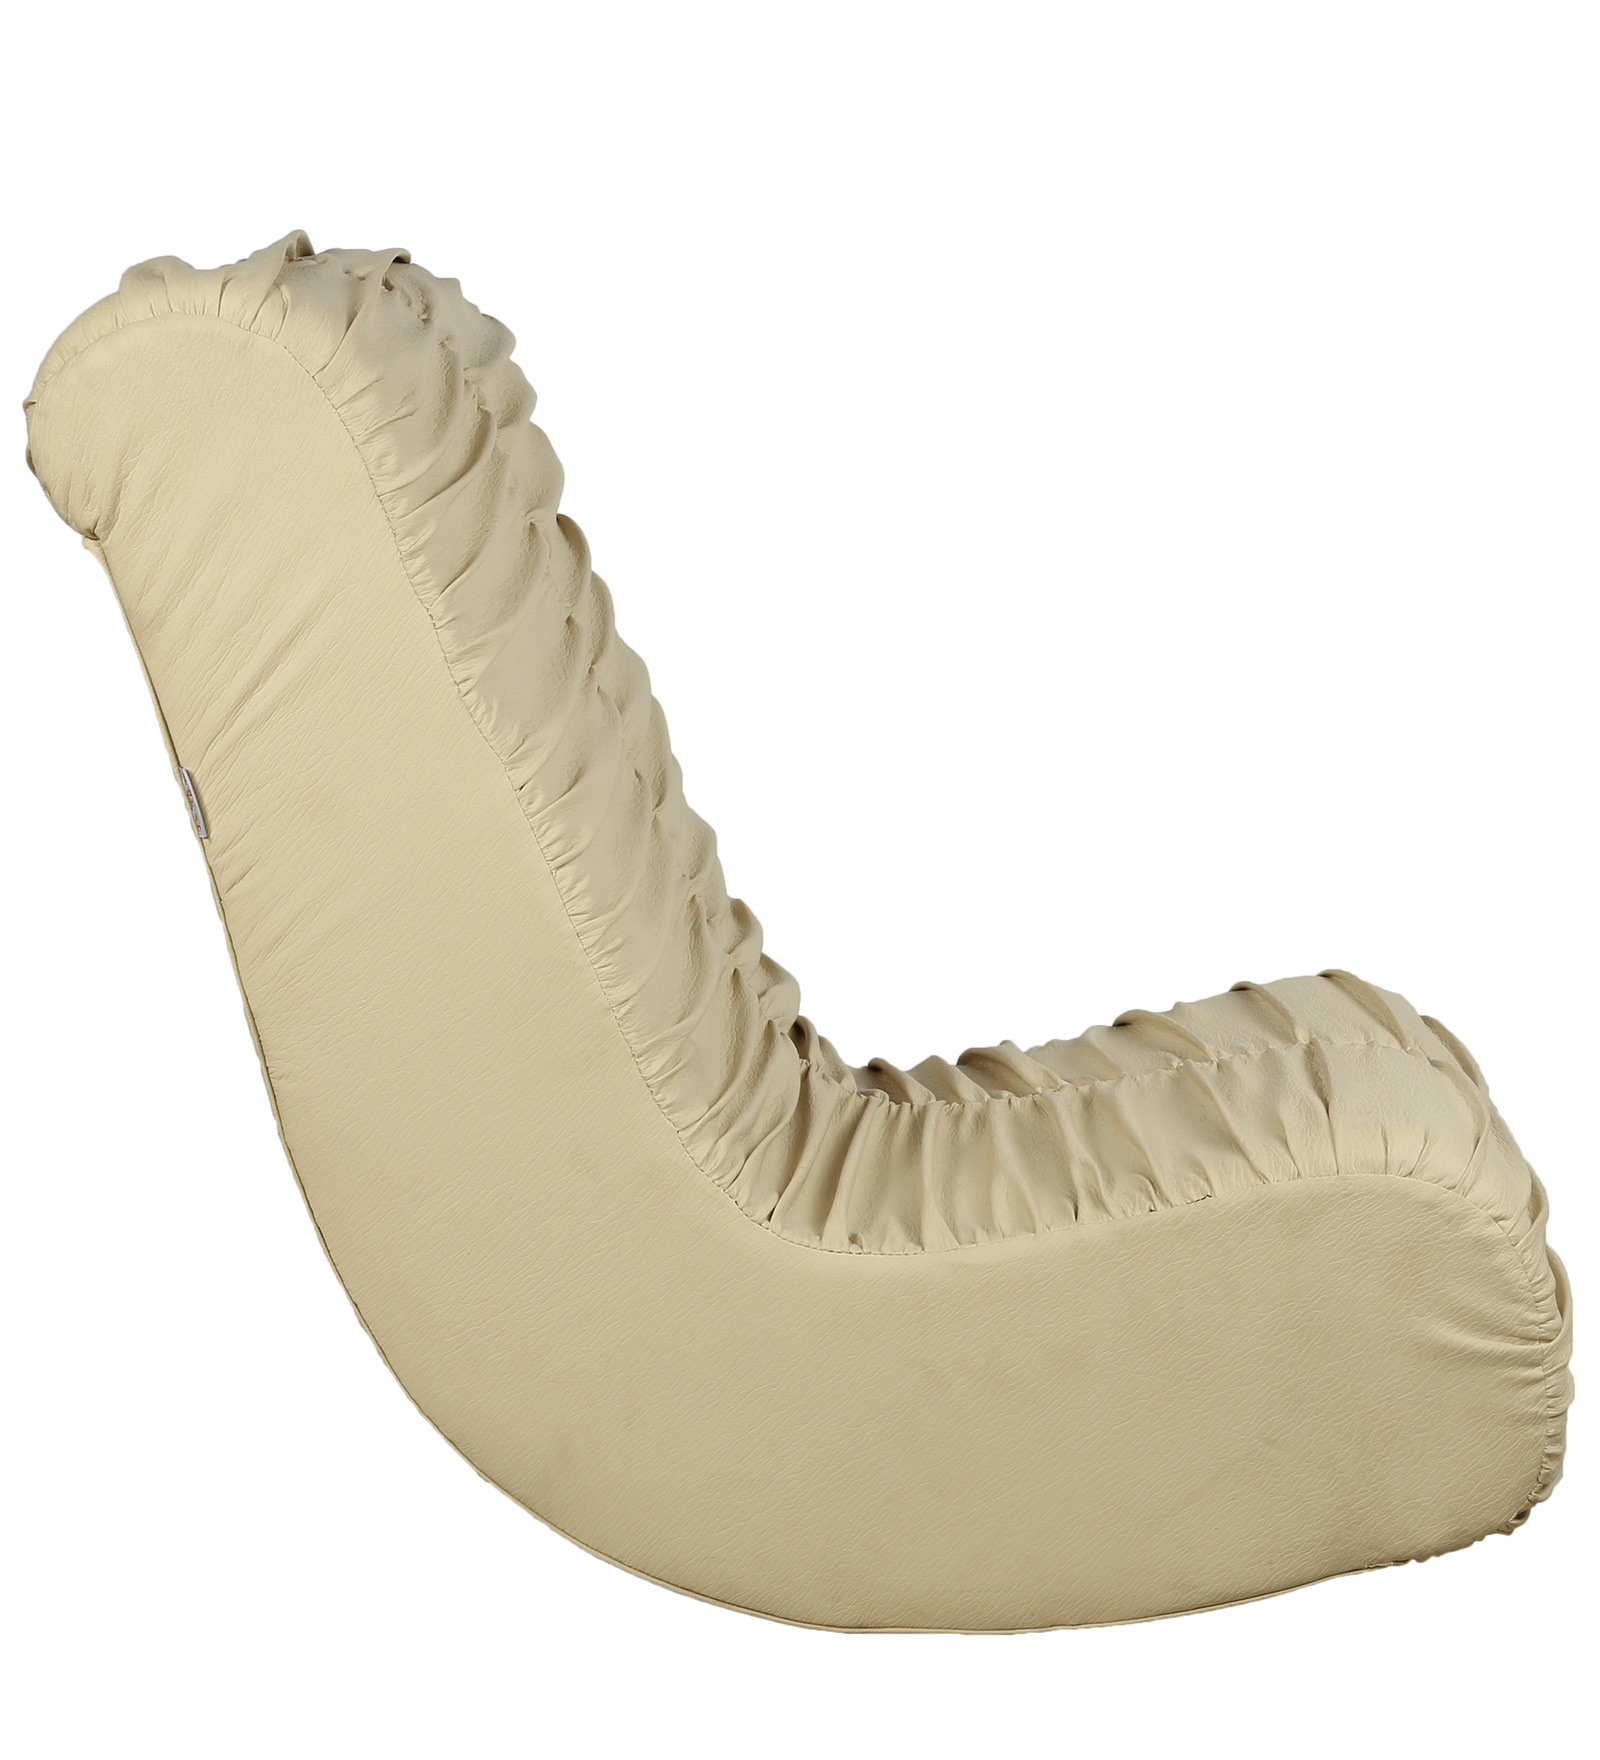Daisy Rocking Chair in Ivory Colour by Parin: (11, 186, 1582, 1634)
